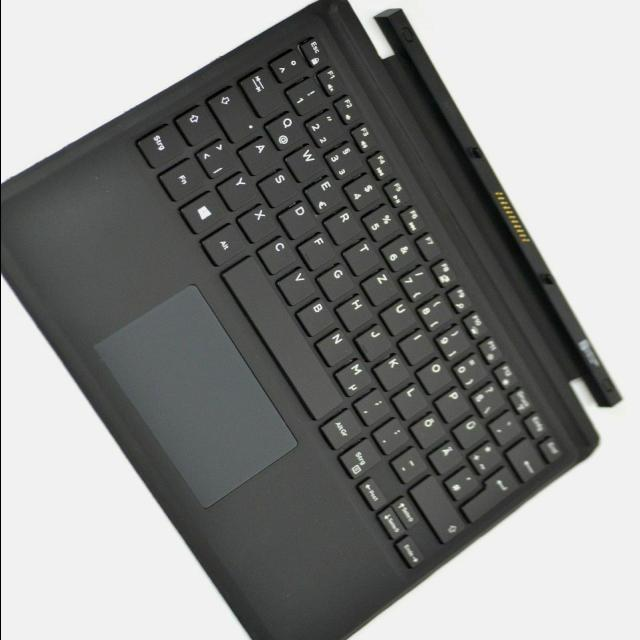0: (454, 353, 494, 390)
1: (288, 77, 330, 115)
2: (306, 108, 350, 148)
3: (327, 141, 368, 181)
4: (347, 173, 385, 211)
5: (365, 204, 405, 242)
6: (384, 234, 422, 272)
7: (402, 266, 442, 302)
8: (419, 294, 459, 332)
9: (437, 325, 477, 361)
a: (240, 136, 283, 176)
accent: (492, 410, 526, 446)
ae: (430, 440, 468, 475)
alt-left: (204, 223, 252, 266)
altgr-right: (323, 408, 366, 450)
b: (298, 297, 338, 337)
c: (259, 234, 299, 275)
caret: (269, 50, 309, 83)
comma: (356, 388, 392, 426)
d: (280, 199, 321, 240)
del: (508, 437, 544, 483)
e: (306, 175, 349, 215)
enter: (464, 464, 524, 523)
f: (300, 231, 340, 271)
g: (318, 263, 359, 302)
h: (337, 293, 377, 331)
hash: (446, 466, 484, 500)
i: (400, 329, 440, 365)
j: (356, 323, 396, 362)
k: (375, 353, 413, 391)
keyboard: (123, 28, 576, 577)
l: (393, 382, 433, 420)
less: (197, 138, 240, 179)
m: (337, 358, 375, 396)
minus: (393, 446, 429, 484)
n: (317, 328, 357, 367)
o: (417, 357, 455, 395)
oe: (412, 411, 450, 449)
p: (436, 386, 472, 424)
plus: (470, 440, 506, 476)
point: (376, 417, 410, 455)
q: (267, 109, 311, 151)
r: (325, 207, 367, 246)
s: (259, 167, 302, 208)
shift-left: (174, 106, 217, 147)
shift-lock: (206, 85, 260, 143)
shift-right: (412, 475, 464, 543)
space: (223, 255, 347, 421)
ss: (472, 382, 510, 418)
strg-left: (138, 123, 190, 169)
strg-right: (342, 438, 384, 478)
t: (344, 238, 384, 276)
tab: (240, 68, 288, 118)
u: (381, 298, 419, 337)
ue: (454, 415, 490, 449)
v: (279, 266, 317, 306)
w: (286, 144, 329, 183)
x: (239, 203, 279, 243)
y: (219, 173, 260, 211)
z: (364, 268, 402, 307)
